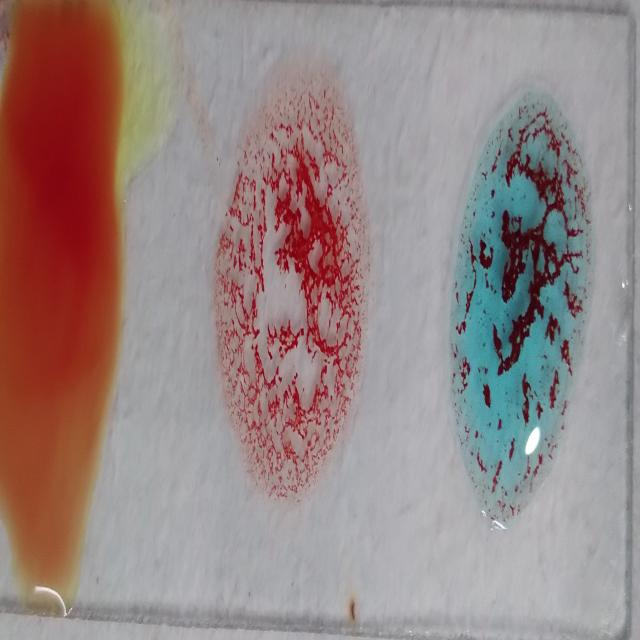A: (448, 81, 600, 528)
D: (221, 77, 371, 526)
